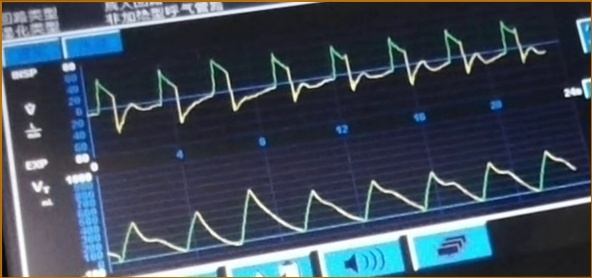Premature_cycling Flow: (89, 22, 568, 134)
Premature_cycling Volume: (108, 148, 577, 263)
